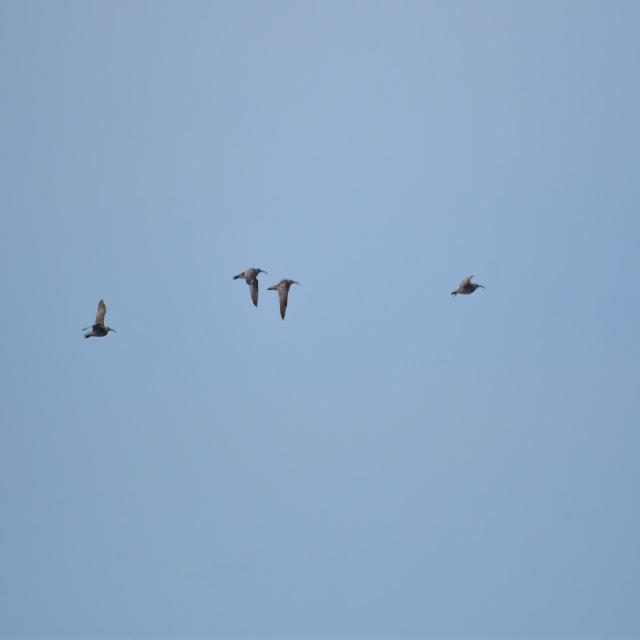bird: (233, 264, 267, 310), (81, 298, 116, 341), (268, 276, 300, 319), (449, 273, 483, 301)
